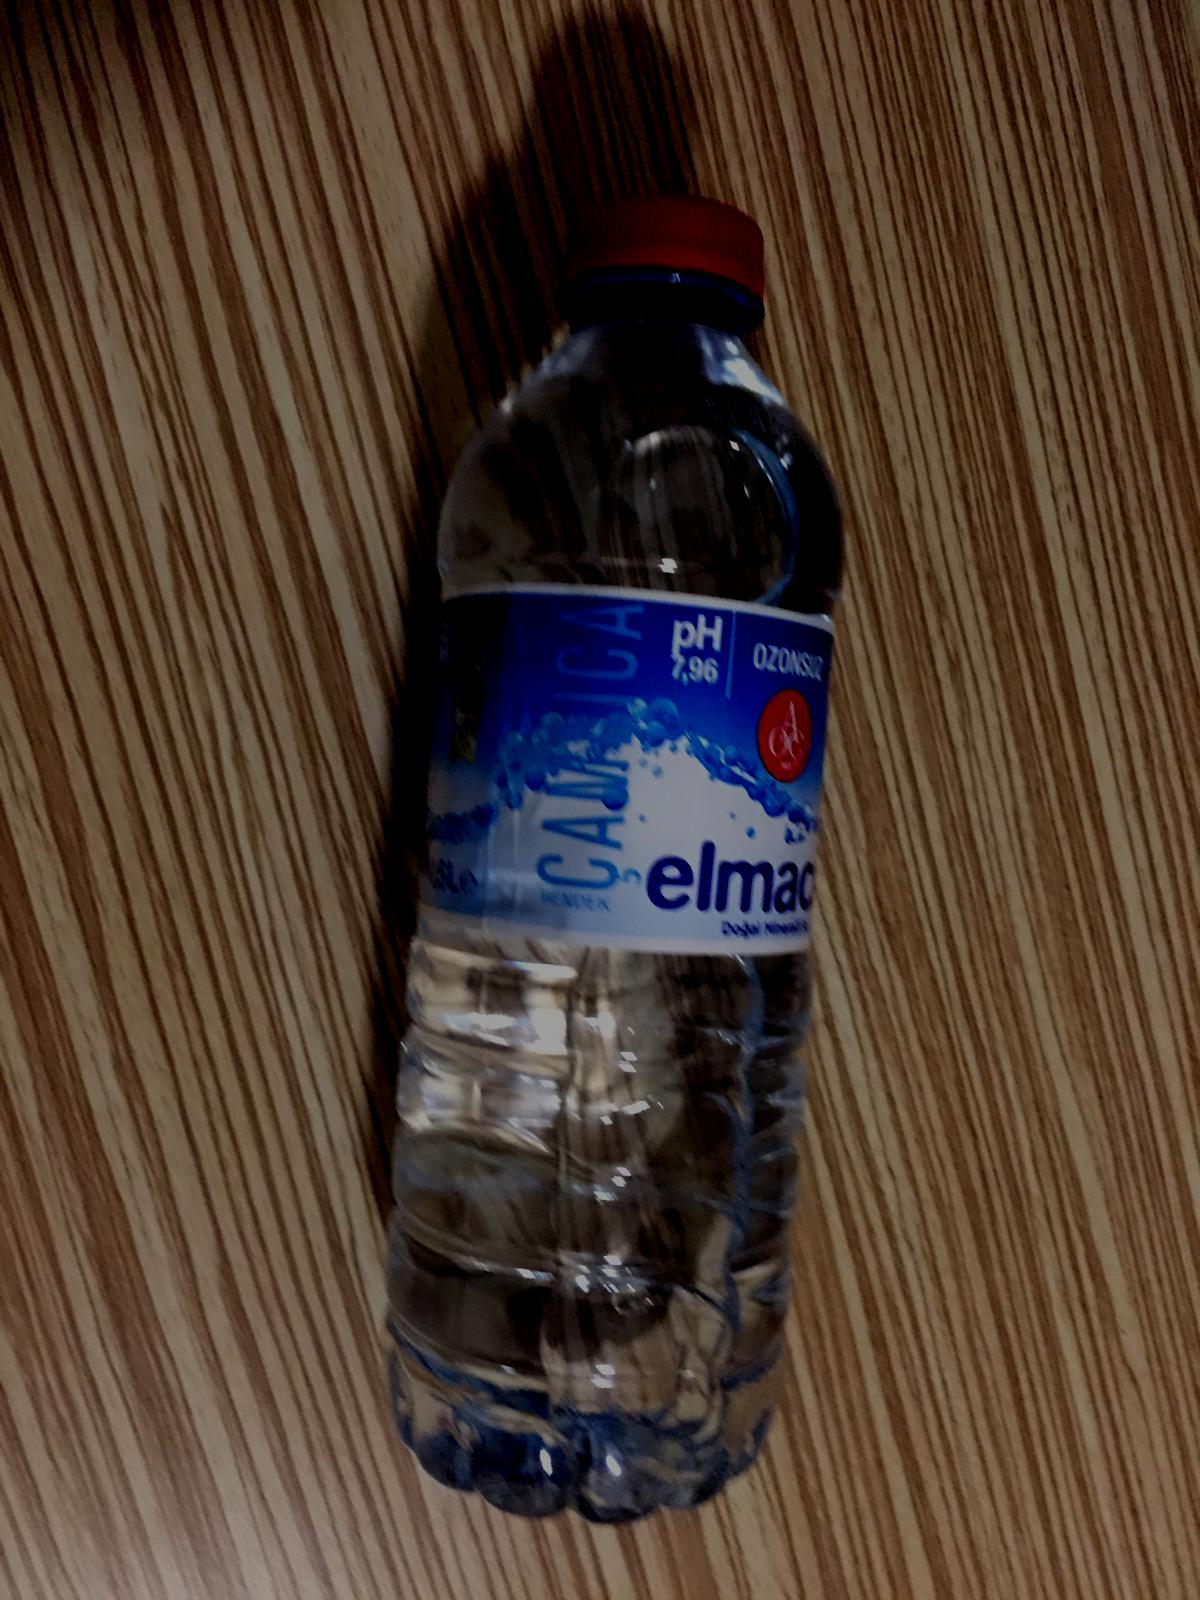bottle: (395, 188, 850, 1523)
